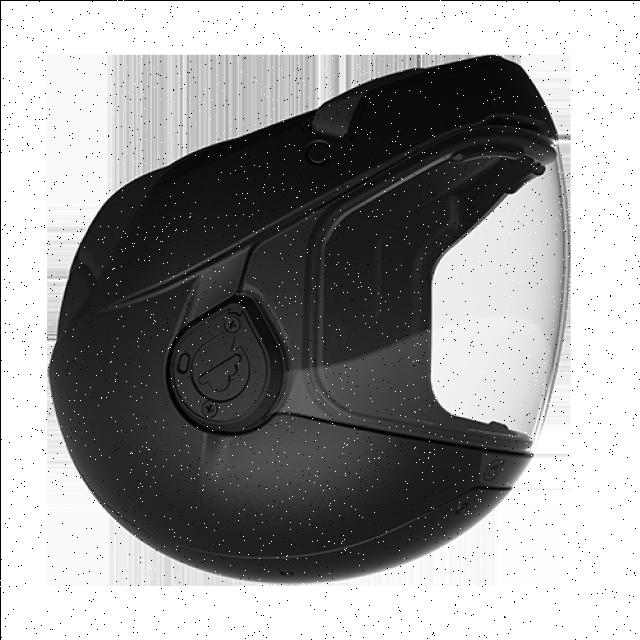Helmet: (39, 62, 601, 596)
